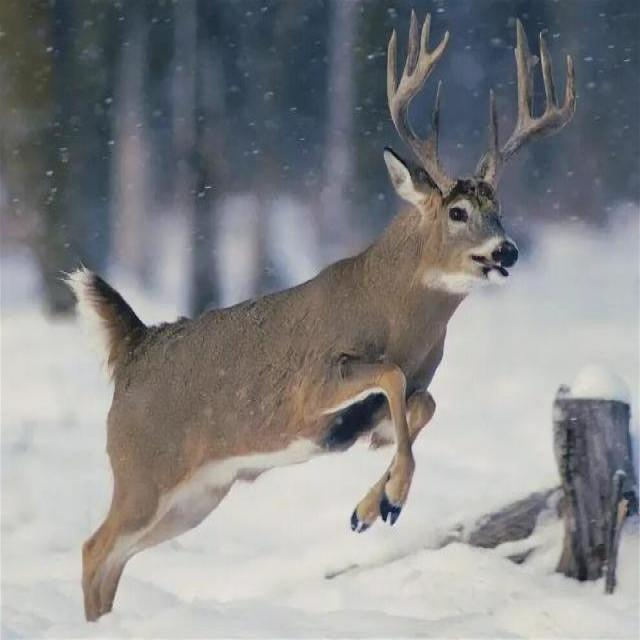deer: (12, 78, 586, 591)
